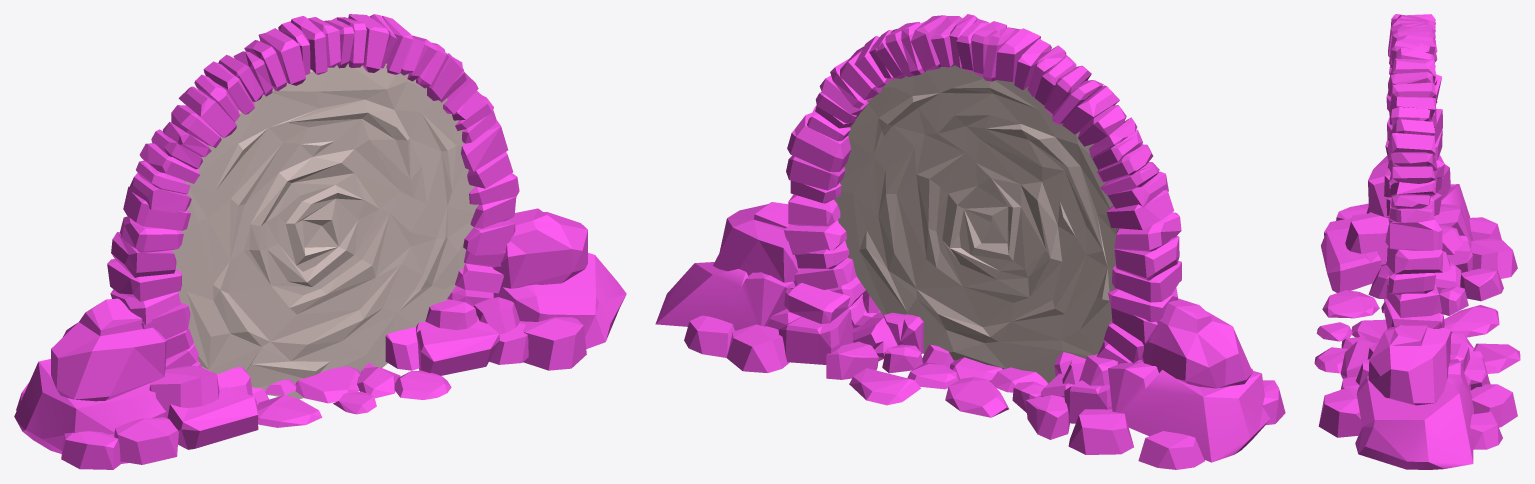
File: SM_Portal_A_Fantasy.fbx
3 renders of one model, left to right at view 1: azimuth 30°, elevation 25°; view 2: azimuth 150°, elevation 25°; view 3: azimuth 270°, elevation 25°, orthographic. The views are drawn at different scales.
Parts seen in each view (by area): view 1: SM_Portal_A_Fantasy; view 2: SM_Portal_A_Fantasy; view 3: SM_Portal_A_Fantasy.
Part boxes in pixels (box(x1,y1,x2,y2)): SM_Portal_A_Fantasy: box(14, 14, 626, 469); SM_Portal_A_Fantasy: box(655, 14, 1285, 469); SM_Portal_A_Fantasy: box(1314, 14, 1520, 469).
Bounding box in the file's own units: 4.74 × 2.81 × 1.64.
